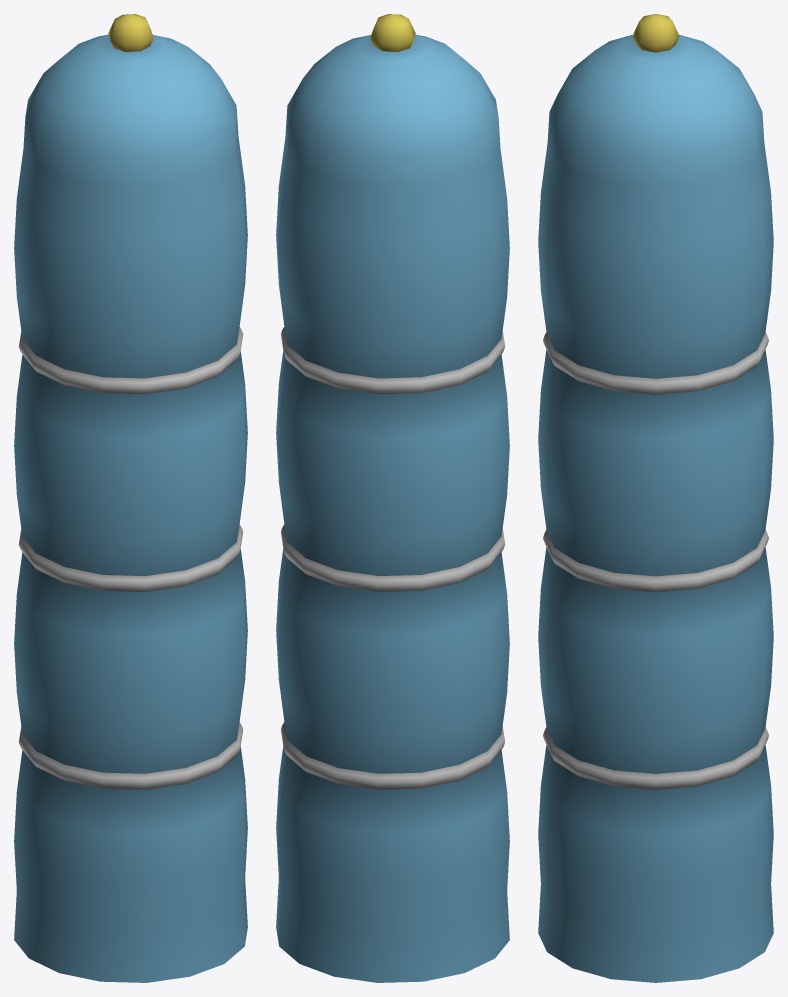
The model's file is inflatable_tower.glb.
3 views of the same model, side by side, from view 1: azimuth 30°, elevation 25°; view 2: azimuth 150°, elevation 25°; view 3: azimuth 270°, elevation 25° (orthographic).
Visible parts, largest first — view 1: inflatable_tower; view 2: inflatable_tower; view 3: inflatable_tower.
Boxes of the visible parts, bbox=[...] form: inflatable_tower: bbox=[14, 14, 247, 982]; inflatable_tower: bbox=[276, 14, 509, 982]; inflatable_tower: bbox=[538, 14, 773, 982].
Size of the model in its own units: 2 by 8.6 by 2.
